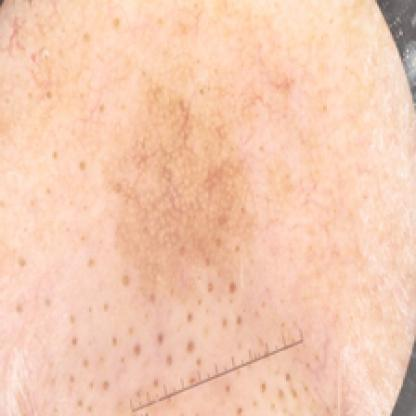malignant: (119, 72, 241, 282)
